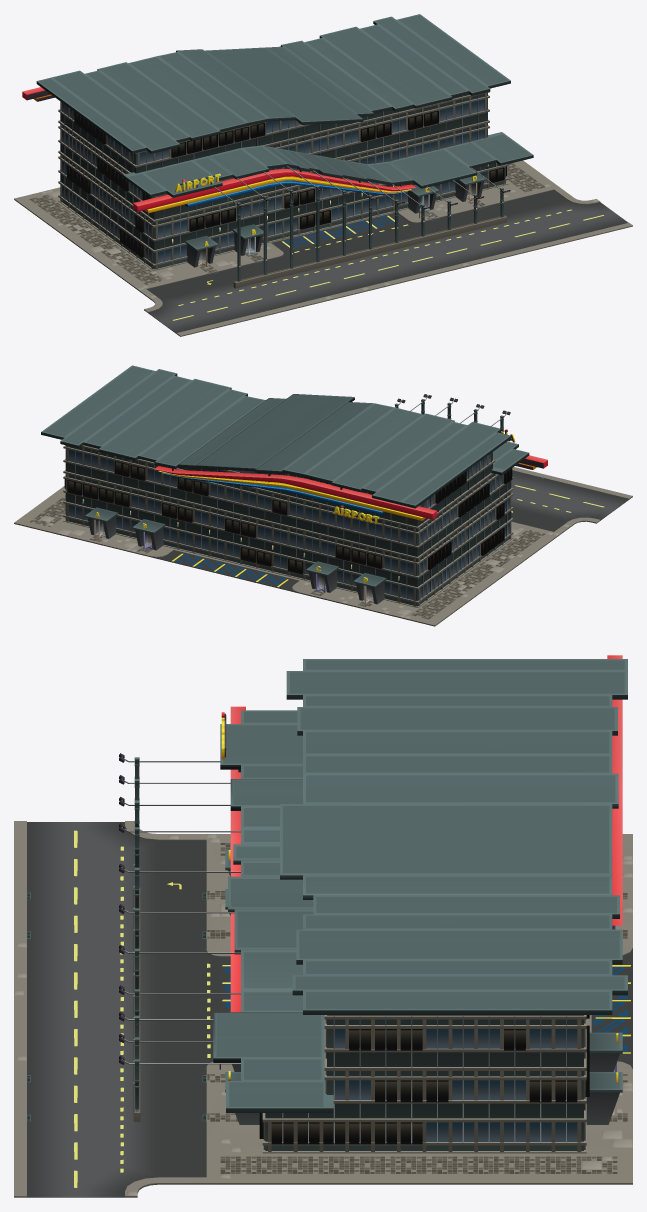
File: tp_airport_shell.glb
3 views of the same model, one above another, from view 1: azimuth 30°, elevation 25°; view 2: azimuth 150°, elevation 25°; view 3: azimuth 270°, elevation 25° (orthographic). The views are drawn at different scales.
Visible parts, largest first — view 1: Upper, Road, Lot, Facade, Poles, Lights_Upper, Lights, Porch_8, Porch_7, Porch_6, Porch_5; view 2: Upper, Lot, Facade, Road, Lights_Upper, Lights, Porch_4, Porch_3, Porch_1, Porch_2, Poles; view 3: Upper, Road, Lot, Facade, Lights_Upper, Poles, Lights, Porch_4, Porch_3.
Boxes of the visible parts, x1,y1,x2,y2 form: Upper: (22, 14, 533, 241); Road: (135, 185, 632, 336); Lot: (14, 135, 555, 288); Facade: (58, 162, 508, 269); Poles: (233, 172, 510, 288); Lights_Upper: (67, 110, 438, 232); Lights: (120, 166, 506, 257); Porch_8: (185, 235, 218, 267); Porch_7: (232, 224, 263, 255); Porch_6: (408, 184, 439, 213); Porch_5: (455, 173, 486, 201); Upper: (41, 365, 547, 578); Lot: (14, 486, 556, 626); Facade: (63, 493, 513, 606); Road: (511, 467, 632, 537); Lights_Upper: (64, 461, 512, 569); Lights: (240, 527, 504, 574); Porch_4: (85, 507, 118, 538); Porch_3: (132, 519, 165, 550); Porch_1: (353, 573, 386, 604); Porch_2: (306, 561, 339, 592); Poles: (394, 394, 510, 431); Upper: (129, 655, 627, 1112); Road: (14, 821, 220, 1197); Lot: (220, 834, 632, 1184); Facade: (262, 1103, 586, 1151); Lights_Upper: (349, 1015, 589, 1102); Poles: (119, 753, 140, 1121); Lights: (259, 1113, 422, 1144); Porch_4: (586, 1072, 622, 1124); Porch_3: (589, 1032, 622, 1071).
Bounding box in the file's own units: 86 × 20.9 × 60.
Materials: 4 (4 with a texture image).
